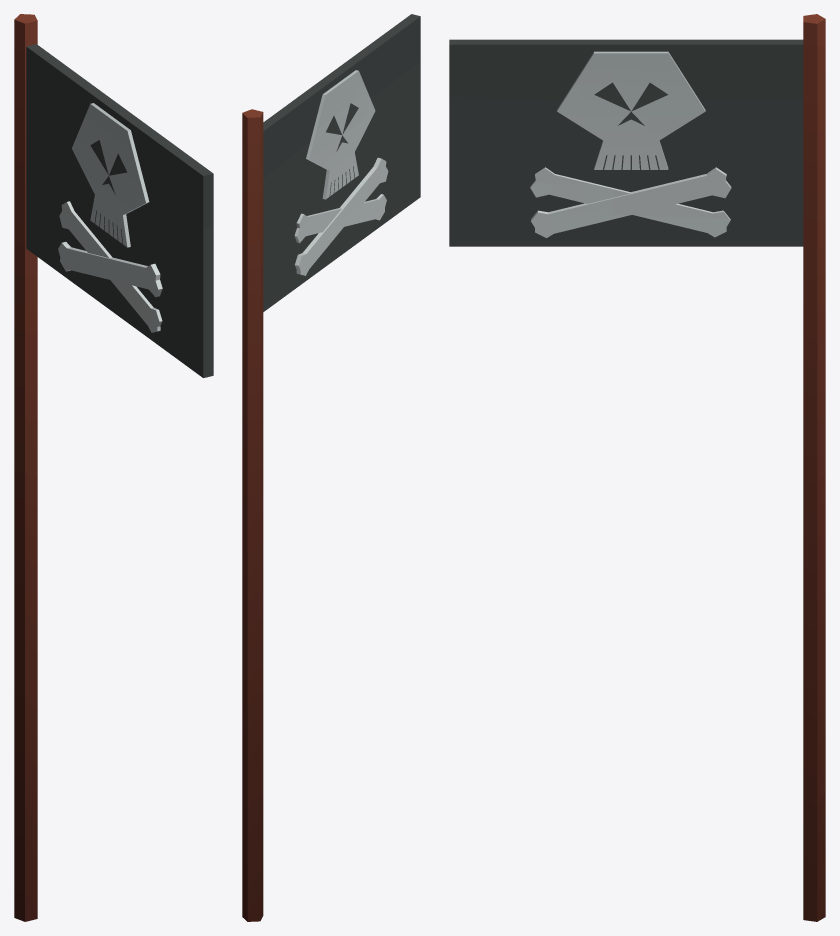
The model's file is m_bg_flag_01.fbx.
3 renders of one model, left to right at view 1: azimuth 30°, elevation 25°; view 2: azimuth 150°, elevation 25°; view 3: azimuth 270°, elevation 25°, orthographic. The views are drawn at different scales.
Visible parts, largest first — view 1: m_bg_flag_01; view 2: m_bg_flag_01; view 3: m_bg_flag_01.
Boxes of the visible parts, box(x1,y1,x2,y2) form: m_bg_flag_01: box(14, 14, 213, 921); m_bg_flag_01: box(242, 14, 420, 921); m_bg_flag_01: box(449, 14, 825, 921).
Bounding box in the file's own units: 9.51 × 400 × 152.
